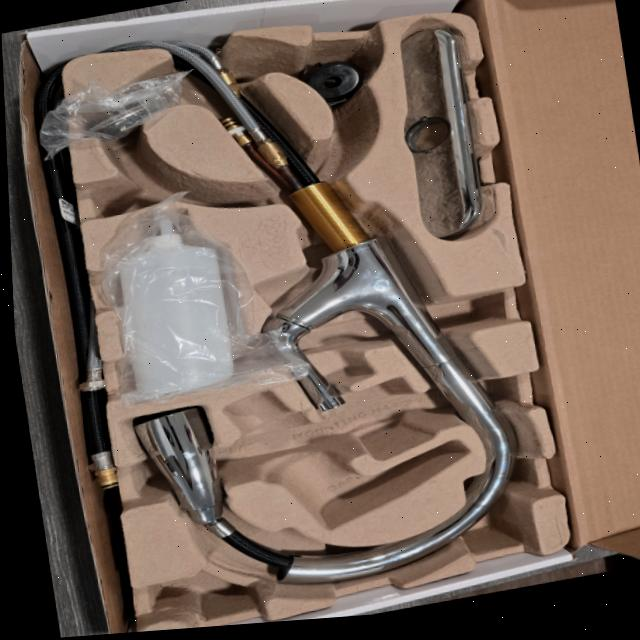1: (100, 38, 517, 582)
2m: (222, 390, 471, 523)
3: (111, 214, 234, 398)
4: (399, 25, 482, 236)
5: (299, 61, 364, 106)
6: (39, 68, 192, 157)
7m: (79, 143, 205, 213)
